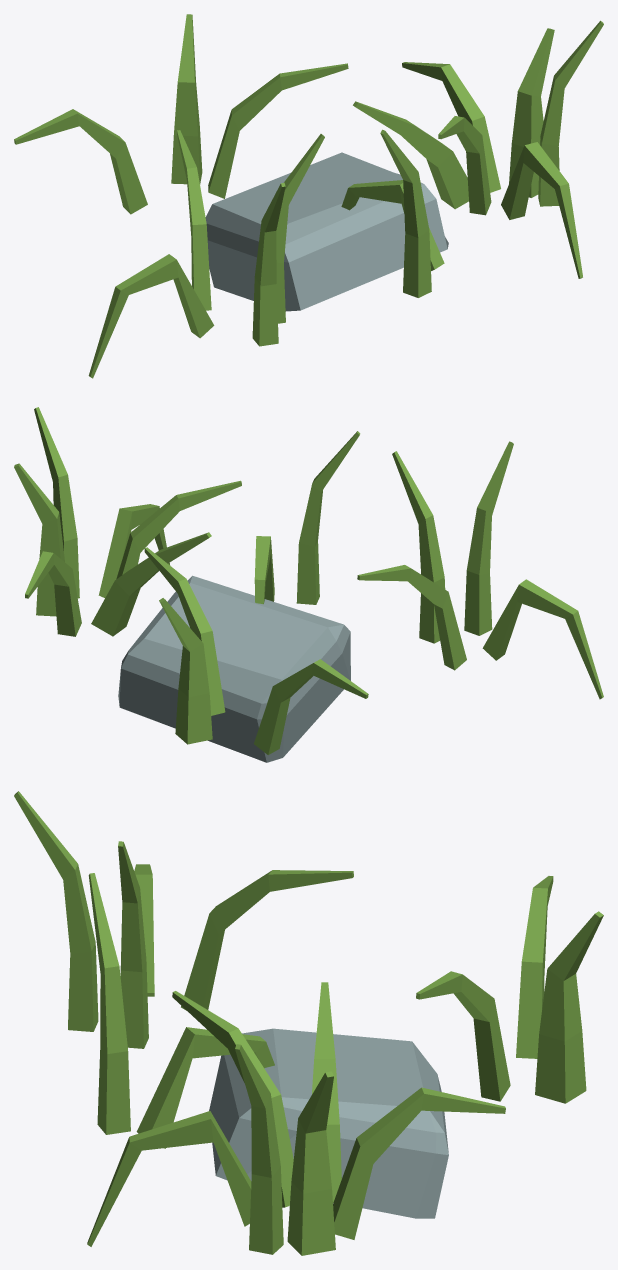
The model's file is herbe7.fbx.
3 renders of one model, top to bottom at view 1: azimuth 30°, elevation 25°; view 2: azimuth 150°, elevation 25°; view 3: azimuth 270°, elevation 25°, orthographic. The views are drawn at different scales.
Visible parts, largest first — view 1: pCube108, pCube123, pCube115, pCube109, pCube121, pCube118, pCube111, pCube120, pCube119, pCube114, pCube113, pCube117 (+4 smaller); view 2: pCube108, pCube118, pCube119, pCube115, pCube116, pCube123, pCube111, pCube120, pCube117, pCube121, pCube113, pCube114 (+4 smaller); view 3: pCube108, pCube119, pCube114, pCube123, pCube110, pCube118, pCube113, pCube109, pCube117, pCube116, pCube121, pCube120 (+4 smaller).
Part boxes in pixels (x1,y1,x2,y2): pCube108: (205,152,448,311); pCube123: (380,129,431,297); pCube115: (88,254,214,378); pCube109: (501,142,582,278); pCube121: (208,63,348,198); pCube118: (252,182,285,346); pCube111: (353,101,468,209); pCube120: (14,109,147,214); pCube119: (171,14,202,184); pCube114: (509,28,554,197); pCube113: (538,20,603,206); pCube117: (177,130,211,310); pCube108: (118,575,350,762); pCube118: (464,441,513,635); pCube119: (159,598,212,744); pCube115: (482,579,603,699); pCube116: (392,451,445,643); pCube123: (296,431,360,604); pCube111: (91,532,211,636); pCube120: (254,659,368,754); pCube117: (357,565,466,670); pCube121: (144,547,225,715); pCube113: (34,407,79,598); pCube114: (14,463,64,616); pCube108: (209,1028,448,1218); pCube119: (535,911,603,1103); pCube114: (287,1071,335,1255); pCube123: (88,873,130,1134); pCube110: (333,1087,505,1239); pCube118: (14,791,98,1031); pCube113: (235,1044,283,1254); pCube109: (87,1111,251,1246); pCube117: (181,870,353,1010); pCube116: (118,841,148,1048); pCube121: (416,971,510,1101); pCube120: (516,876,553,1058).
Bounding box in the file's own units: 80.98 × 33.36 × 58.6.
